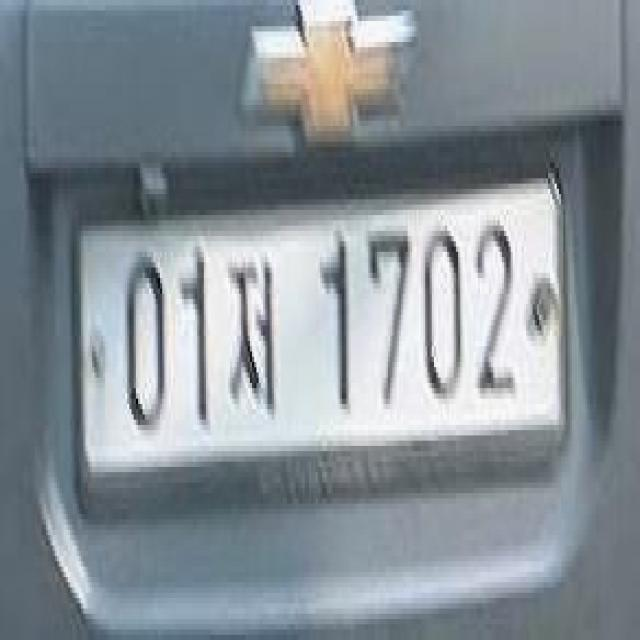illegal_plate: (71, 172, 562, 514)
